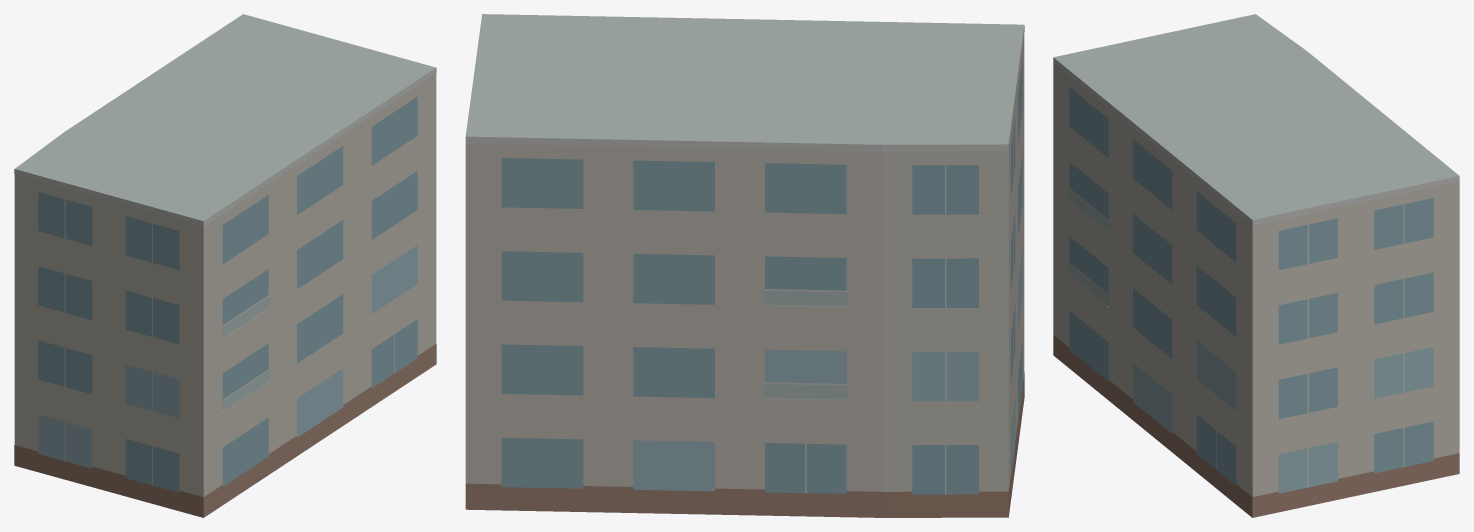
The model's file is survey-upis-33028173.glb.
3 views of the same model, side by side, from view 1: azimuth 30°, elevation 25°; view 2: azimuth 150°, elevation 25°; view 3: azimuth 270°, elevation 25° (orthographic). The views are drawn at different scales.
Visible parts, largest first — view 1: survey-upis-33028173.tmp; view 2: survey-upis-33028173.tmp; view 3: survey-upis-33028173.tmp.
Boxes of the visible parts, left/top/right/bottom form: survey-upis-33028173.tmp: left=14, top=14, right=436, bottom=517; survey-upis-33028173.tmp: left=465, top=14, right=1024, bottom=517; survey-upis-33028173.tmp: left=1053, top=14, right=1459, bottom=517.
Size of the model in its own units: 19.58 by 13.2 by 16.33.
